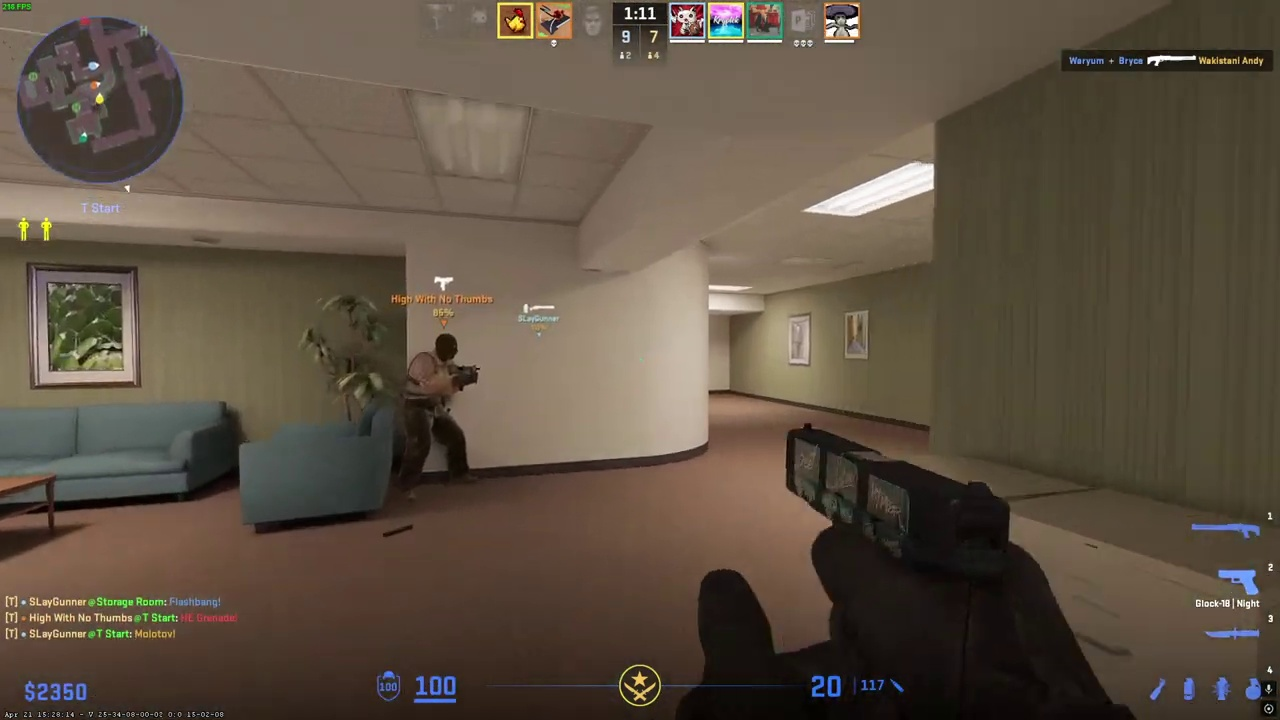Terrorist: (396, 333, 478, 498)
